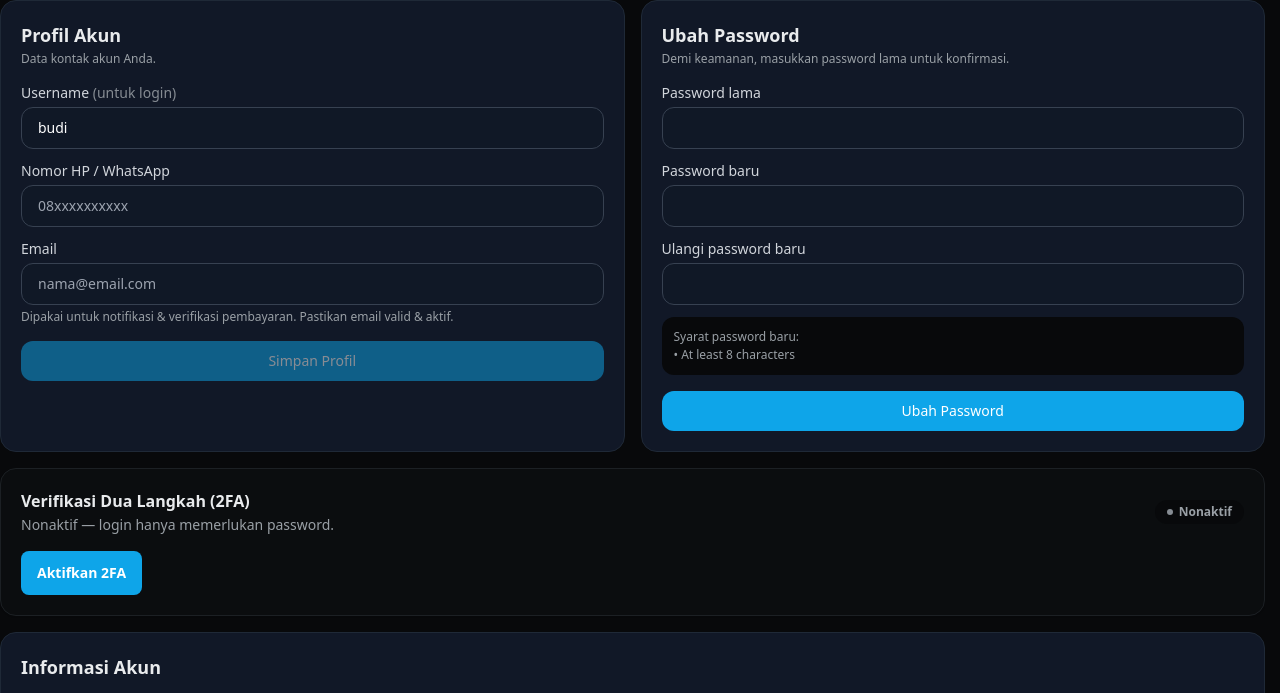
it: MyAccount › blocks a password change when the confirmation does not match
Expected: the field showing "budi" is shown, x1=21 y1=107 x2=604 y2=149
Type "OldPass1!" into the password field labelled "Password lama".
click(953, 128); type("OldPass1!")  # box x1=662 y1=107 x2=1244 y2=149
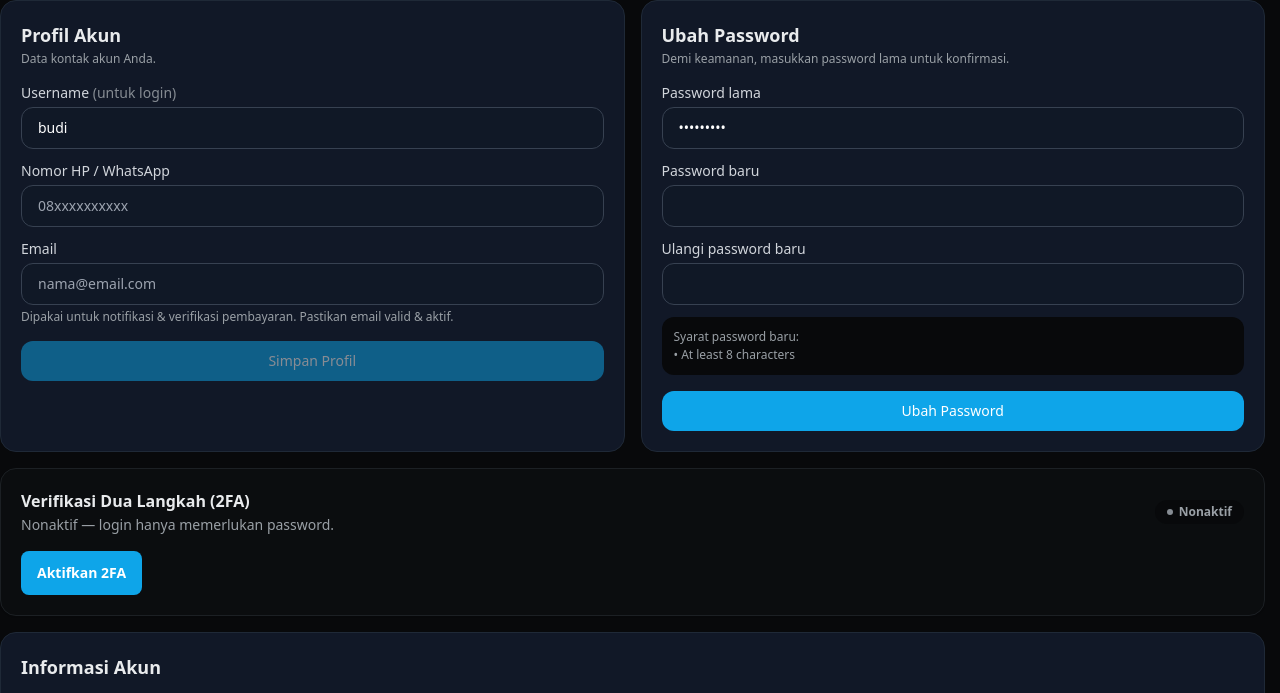
Type "NewPass1!" into the password field labelled "Password baru".
click(953, 206); type("NewPass1!")  # box x1=662 y1=185 x2=1244 y2=227
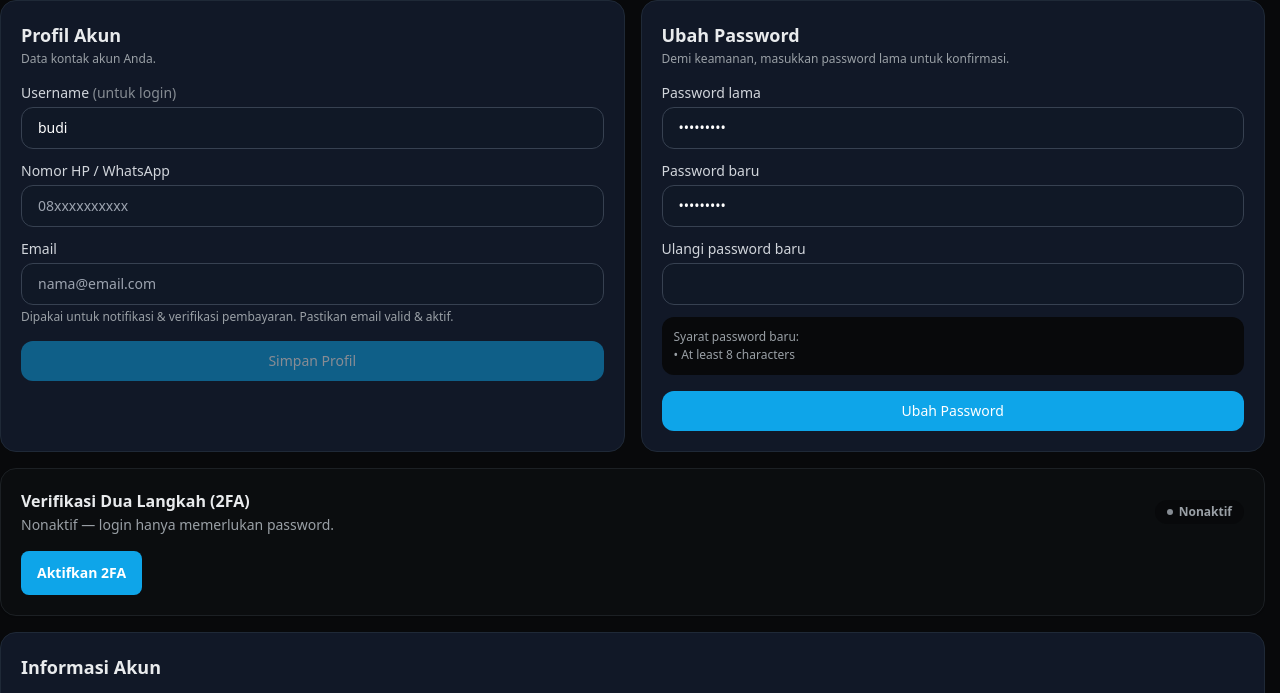
Type "Mismatch1!" into the password field labelled "Ulangi password baru".
click(953, 284); type("Mismatch1!")  # box x1=662 y1=263 x2=1244 y2=305
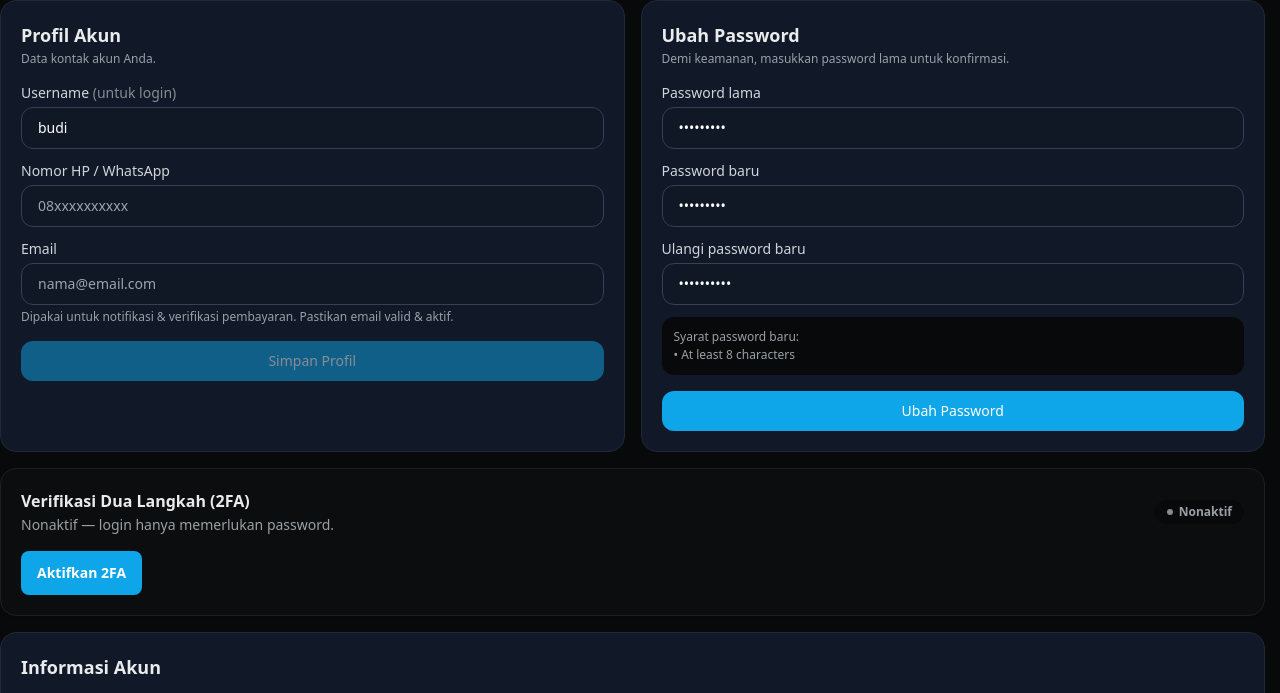
Click the button "Ubah Password".
click(953, 411)  # box x1=662 y1=391 x2=1244 y2=431
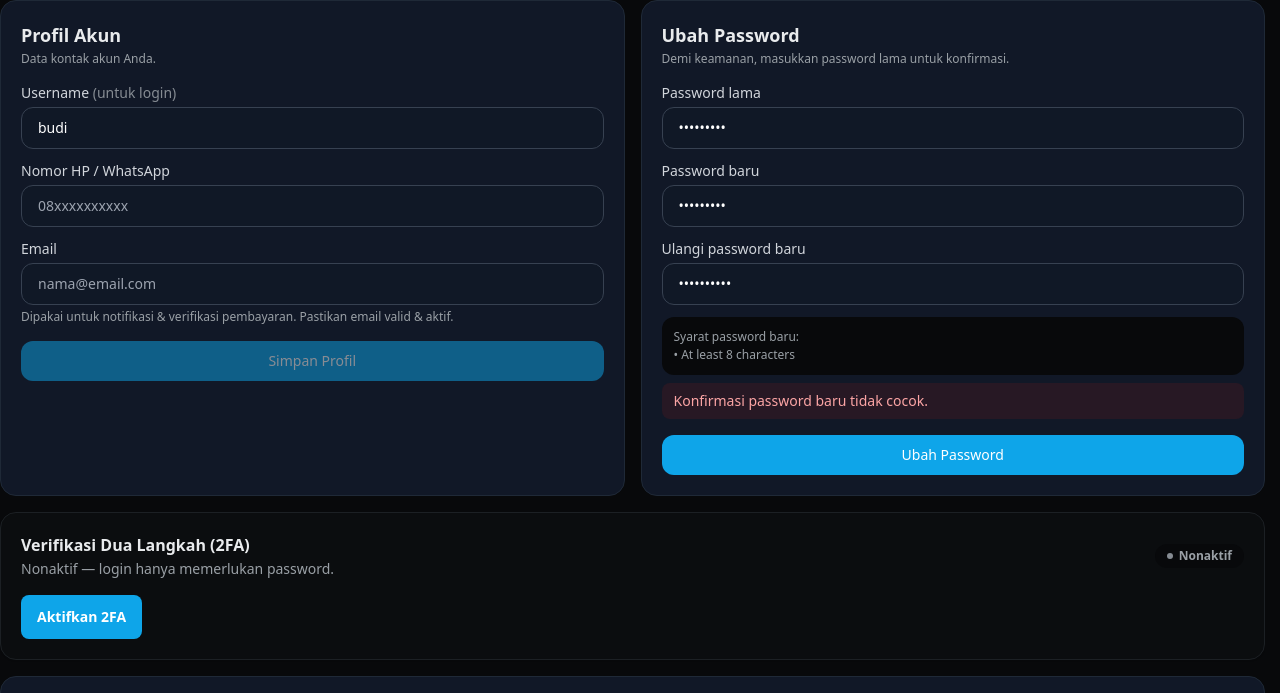
Expected: the text "Konfirmasi password baru tidak cocok." is shown, x1=662 y1=383 x2=1244 y2=419
